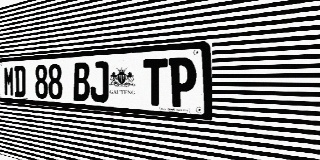8: (48, 63, 62, 100), (35, 64, 48, 99)
B: (73, 62, 90, 102)
D: (14, 65, 26, 98)
J: (90, 61, 109, 103)
M: (4, 66, 14, 97)
P: (169, 57, 196, 108)
T: (143, 58, 168, 107)
